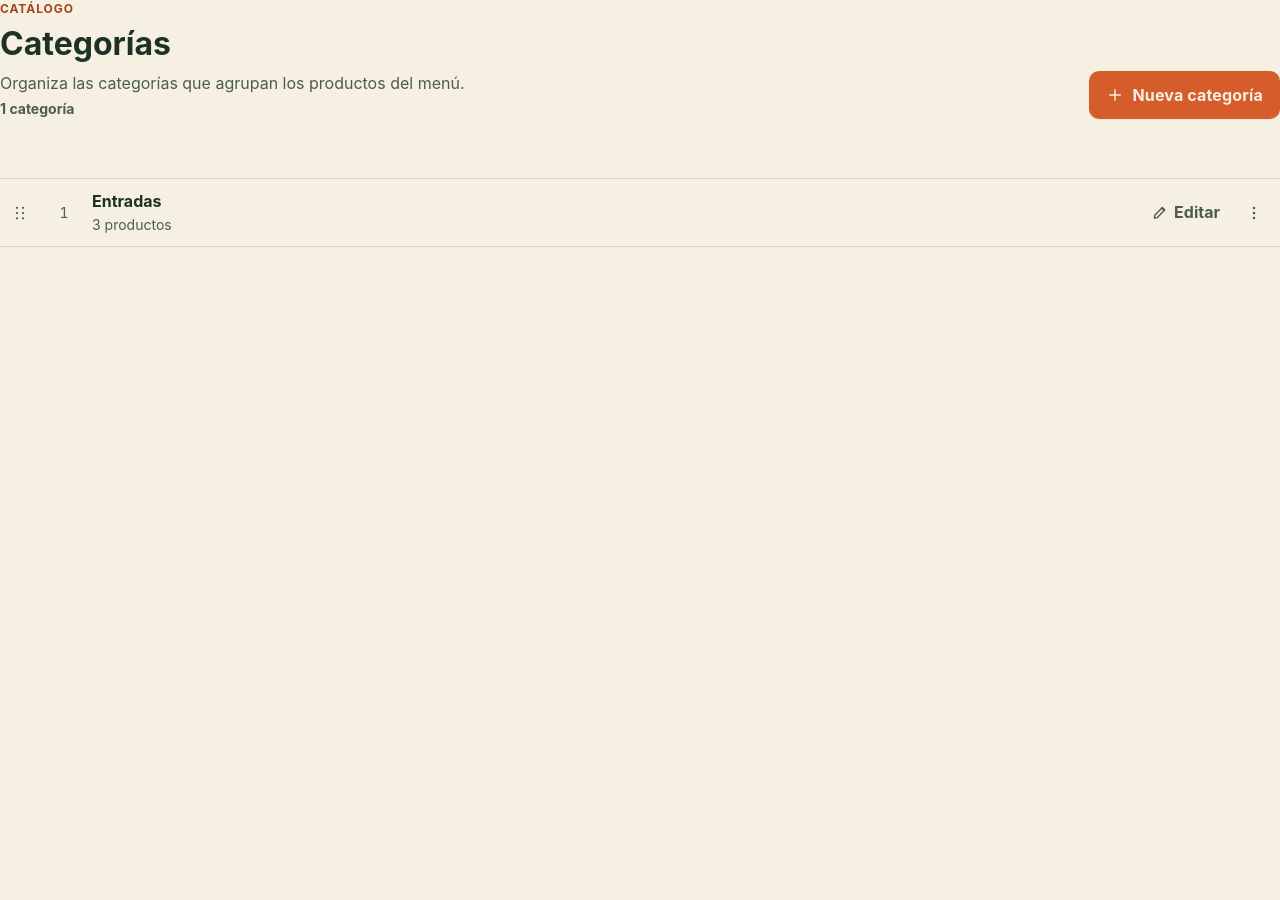
Test: CategoryManagement › shows compact rows and opens the create modal
Expected: the text "Entradas" is shown, [92, 191, 162, 211]
Click the button "Nueva categoría". click: (1185, 95)
box: [1090, 71, 1279, 119]
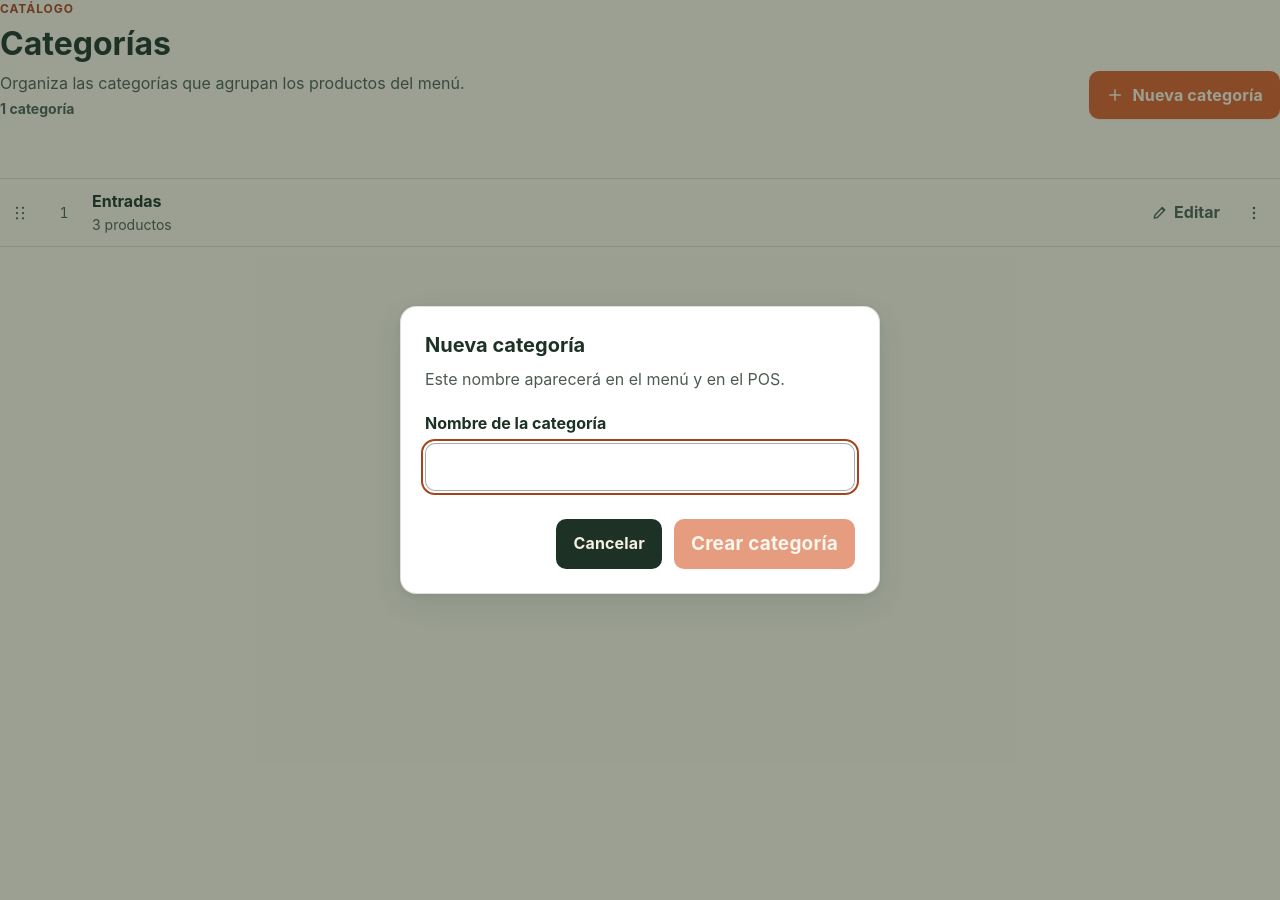
Expected: the dialog "Nueva categoría" is shown, [400, 306, 880, 594]
